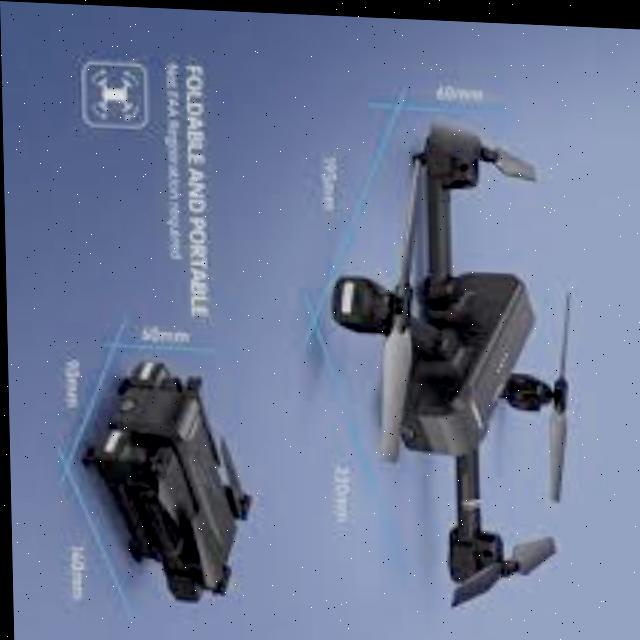drone: (305, 64, 594, 613)
